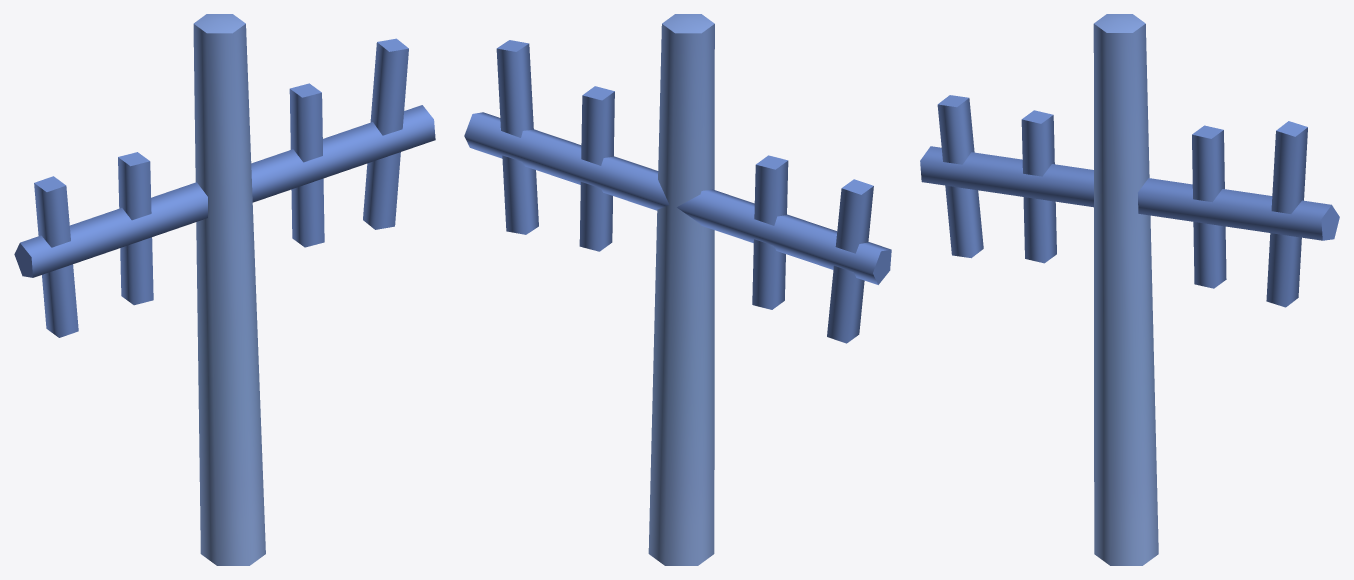
Rendered from Antene_1_C_2.fbx.
The picture shows the model from 3 angles, left to right: view 1: azimuth 30°, elevation 25°; view 2: azimuth 150°, elevation 25°; view 3: azimuth 330°, elevation 25°; orthographic projection.
Parts seen in each view (by area): view 1: Antene_1_C_2; view 2: Antene_1_C_2; view 3: Antene_1_C_2.
Boxes of the visible parts, x1,y1,x2,y2 form: Antene_1_C_2: (14, 14, 435, 565); Antene_1_C_2: (464, 14, 891, 565); Antene_1_C_2: (920, 14, 1339, 565).
Size of the model in its own units: 58.81 by 73.94 by 8.24.
